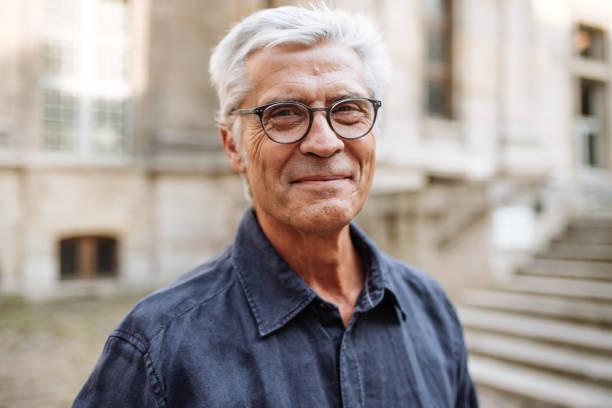Wrinkles: (259, 84, 302, 97), (261, 69, 287, 81), (255, 136, 264, 153), (250, 129, 263, 140)
